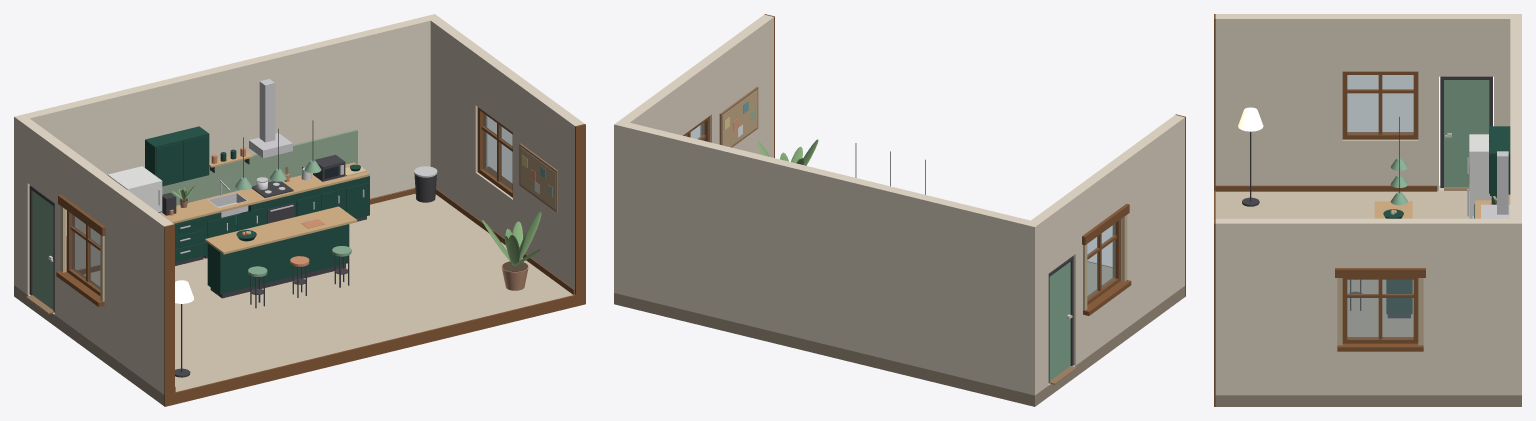
Rendered from map-kitchen.glb.
3 views of the same model, side by side, from view 1: azimuth 30°, elevation 25°; view 2: azimuth 150°, elevation 25°; view 3: azimuth 270°, elevation 25° (orthographic). The views are drawn at different scales.
Visible parts, largest first — view 1: Walls, Floor_Slab, Bar_Counter, Backsplash, Upper_Cabinet, Windows_Glass, Countertop, Door_Entrance_Leaf, Cab_B, Plant_Living, Range_Hood, Pinboard (+9 smaller); view 2: Walls, Floor_Slab, Door_Entrance_Leaf, Pinboard, Windows_Glass, Door_Entrance; view 3: Walls, Floor_Slab, Windows_Glass, Door_Entrance_Leaf, Bar_Counter, Fridge, Range_Hood, Upper_Cabinet, Door_Entrance, Floor_Lamp.
Part boxes in pixels (bbox=[...]): Walls: bbox=[14, 14, 585, 406]; Floor_Slab: bbox=[14, 193, 572, 405]; Bar_Counter: bbox=[205, 206, 357, 298]; Backsplash: bbox=[162, 129, 357, 205]; Upper_Cabinet: bbox=[145, 126, 209, 186]; Windows_Glass: bbox=[72, 113, 512, 289]; Countertop: bbox=[162, 162, 369, 223]; Door_Entrance_Leaf: bbox=[32, 191, 53, 310]; Cab_B: bbox=[295, 176, 369, 221]; Plant_Living: bbox=[482, 212, 541, 290]; Range_Hood: bbox=[249, 79, 292, 158]; Pinboard: bbox=[519, 143, 557, 212]; Walls: bbox=[614, 14, 1185, 395]; Floor_Slab: bbox=[614, 262, 1184, 406]; Door_Entrance_Leaf: bbox=[1049, 262, 1072, 380]; Pinboard: bbox=[719, 86, 758, 147]; Windows_Glass: bbox=[685, 122, 1115, 298]; Door_Entrance: bbox=[1048, 256, 1077, 384]; Walls: bbox=[1214, 14, 1521, 406]; Floor_Slab: bbox=[1215, 190, 1521, 406]; Windows_Glass: bbox=[1347, 75, 1413, 338]; Door_Entrance_Leaf: bbox=[1444, 80, 1489, 186]; Bar_Counter: bbox=[1374, 201, 1412, 318]; Fridge: bbox=[1467, 134, 1491, 218]; Range_Hood: bbox=[1481, 151, 1510, 218]; Upper_Cabinet: bbox=[1489, 126, 1510, 195]; Door_Entrance: bbox=[1440, 76, 1492, 190]; Floor_Lamp: bbox=[1238, 107, 1263, 206].
Bounding box in the file's own units: 8.74 × 3.47 × 5.28.
